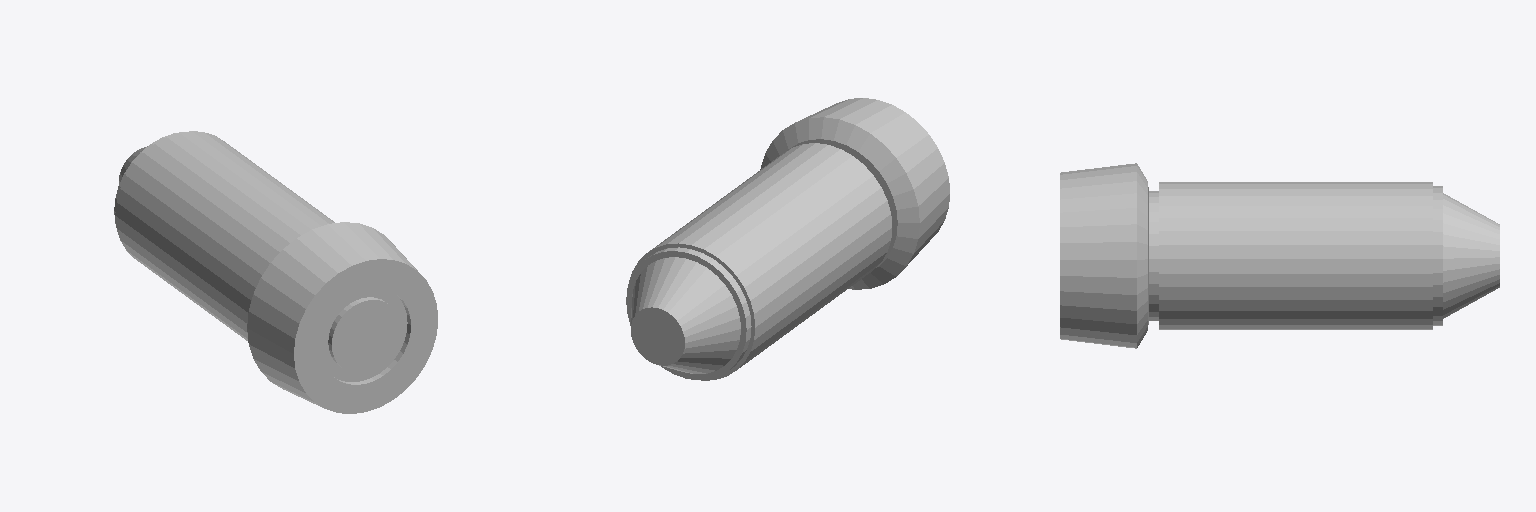
File: bullet.obj
The picture shows the model from 3 angles: view 1: azimuth 30°, elevation 25°; view 2: azimuth 150°, elevation 25°; view 3: azimuth 270°, elevation 25°; orthographic projection.
Visible parts, largest first — view 1: 円柱; view 2: 円柱; view 3: 円柱.
Part boxes in pixels (x1,y1,x2,y2): 円柱: (114, 131, 437, 413); 円柱: (626, 98, 949, 380); 円柱: (1060, 163, 1499, 348).
Bounding box in the file's own units: 2.94 × 2.94 × 6.97.